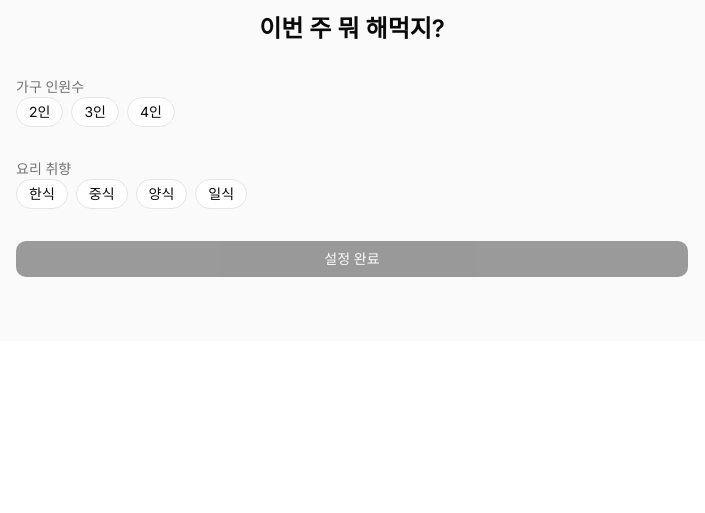
Test: 초기 설정을 완료하면 추천 화면으로 넘어간다
Click the button "2인". click: x=40, y=112
box: 16,97 -> 63,127
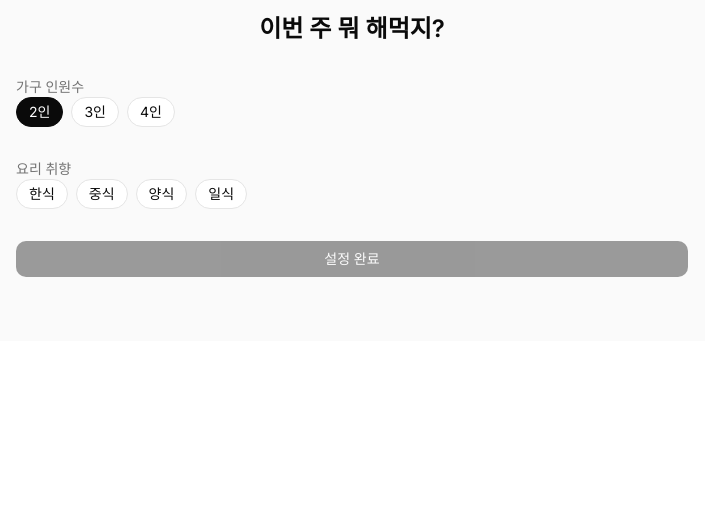
Click the button "한식". click: x=42, y=194
box: 16,179 -> 68,209
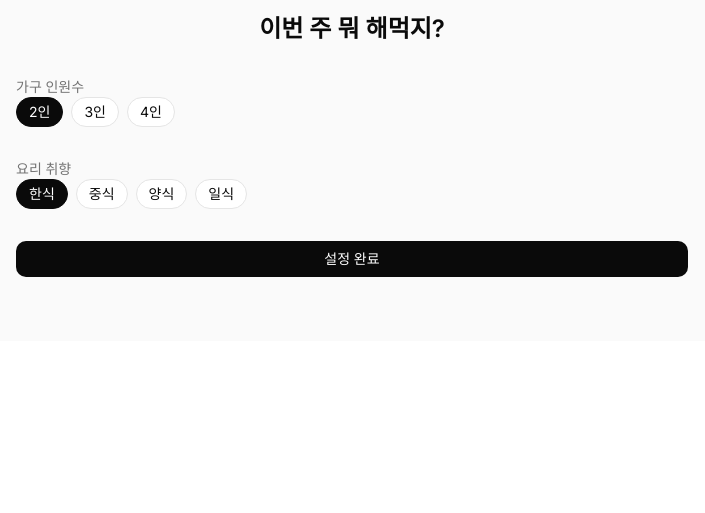
Click the button "설정 완료". click: x=352, y=259
box: 16,241 -> 688,277
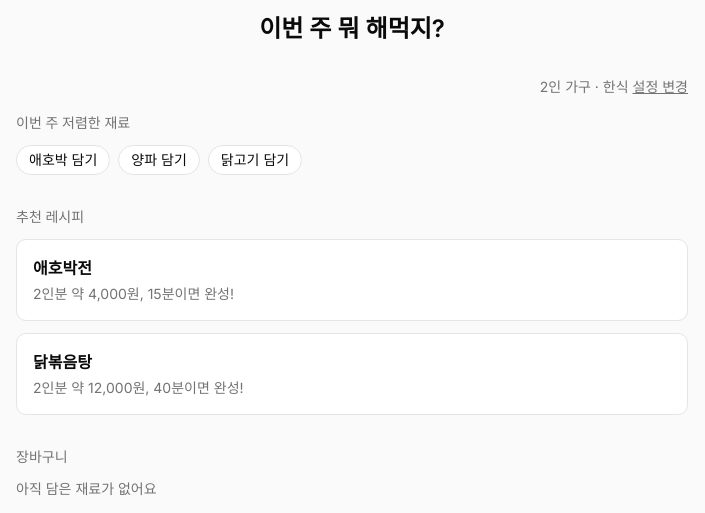
Expected: the button "애호박 담기" is shown, 16,145 -> 110,175
Expected: the heading "애호박전" is shown, 33,258 -> 92,278
